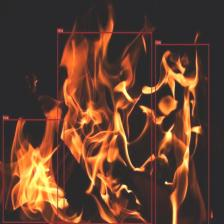fire: (57, 32, 152, 224), (155, 44, 209, 224), (3, 119, 64, 222)
